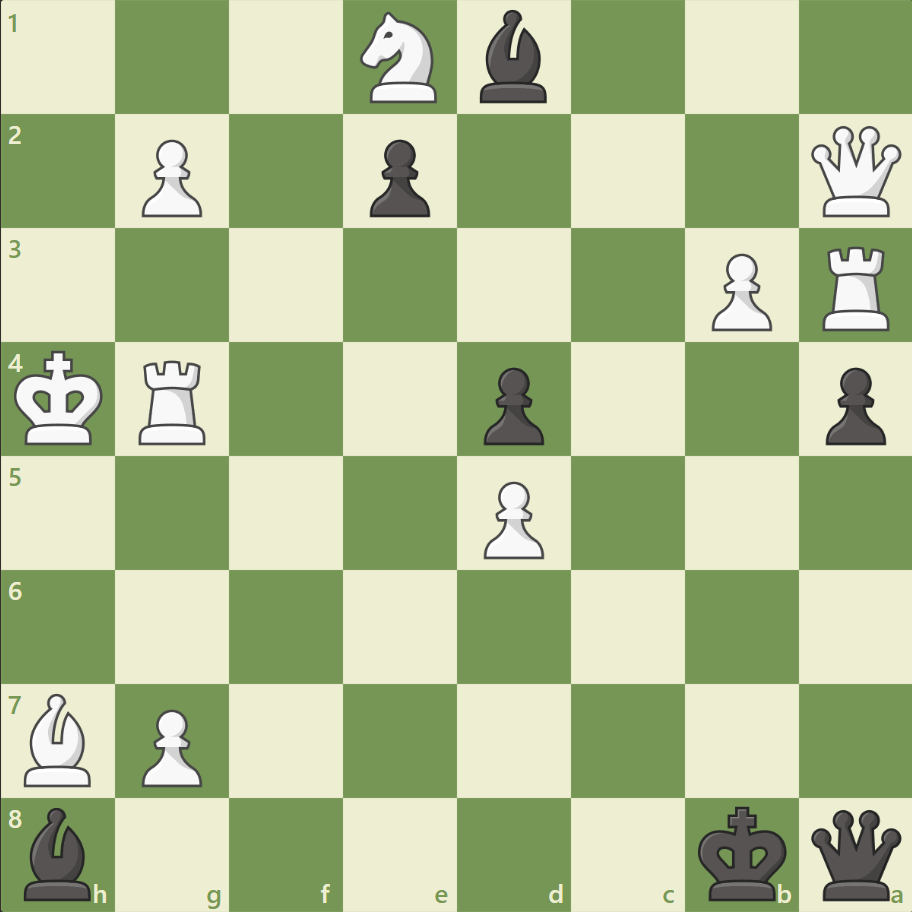B: (17, 687, 101, 790)
K: (11, 344, 111, 452)
N: (351, 7, 449, 110)
P: (133, 700, 208, 791), (474, 473, 549, 564), (701, 246, 776, 337), (133, 132, 208, 223)
Q: (805, 122, 904, 222)
R: (814, 239, 897, 336), (133, 352, 215, 449)
b: (17, 801, 101, 904), (471, 6, 555, 109)
k: (692, 798, 792, 906)
p: (474, 359, 549, 450), (815, 359, 889, 450), (361, 132, 435, 223)
q: (805, 804, 904, 903)
